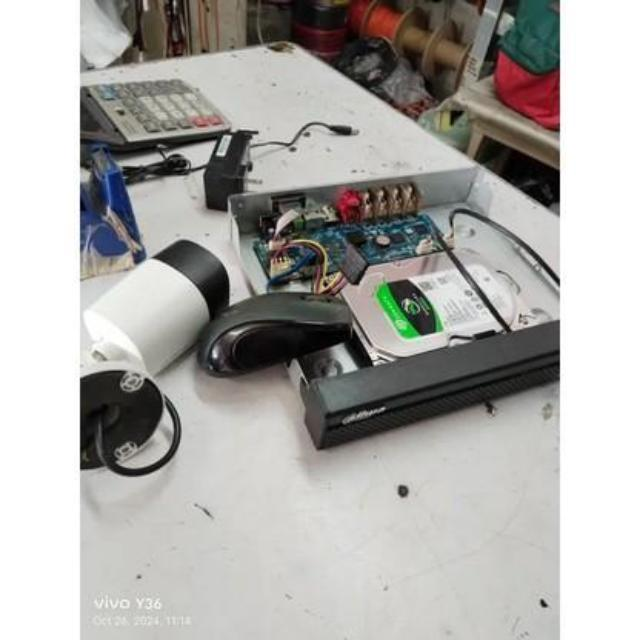DISK: (342, 246, 536, 363)
